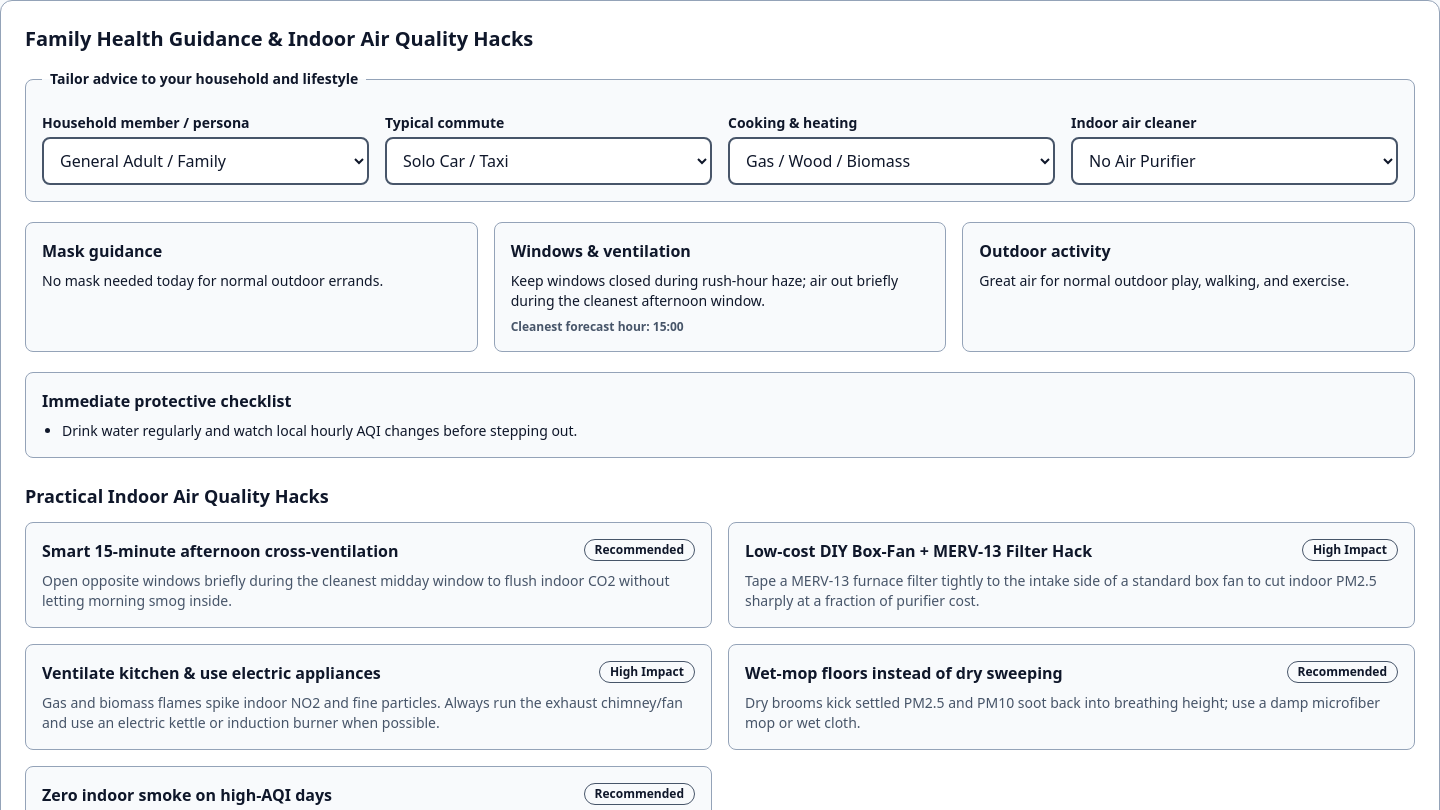
Test: GuidanceSection and ActivityPlanner update interactively and pass axe
Later steps or results of the test are not shown.
Select "Asthma / Respiratory" in the dropdown labelled "Household member / persona": (206, 161) [42, 137, 369, 185]
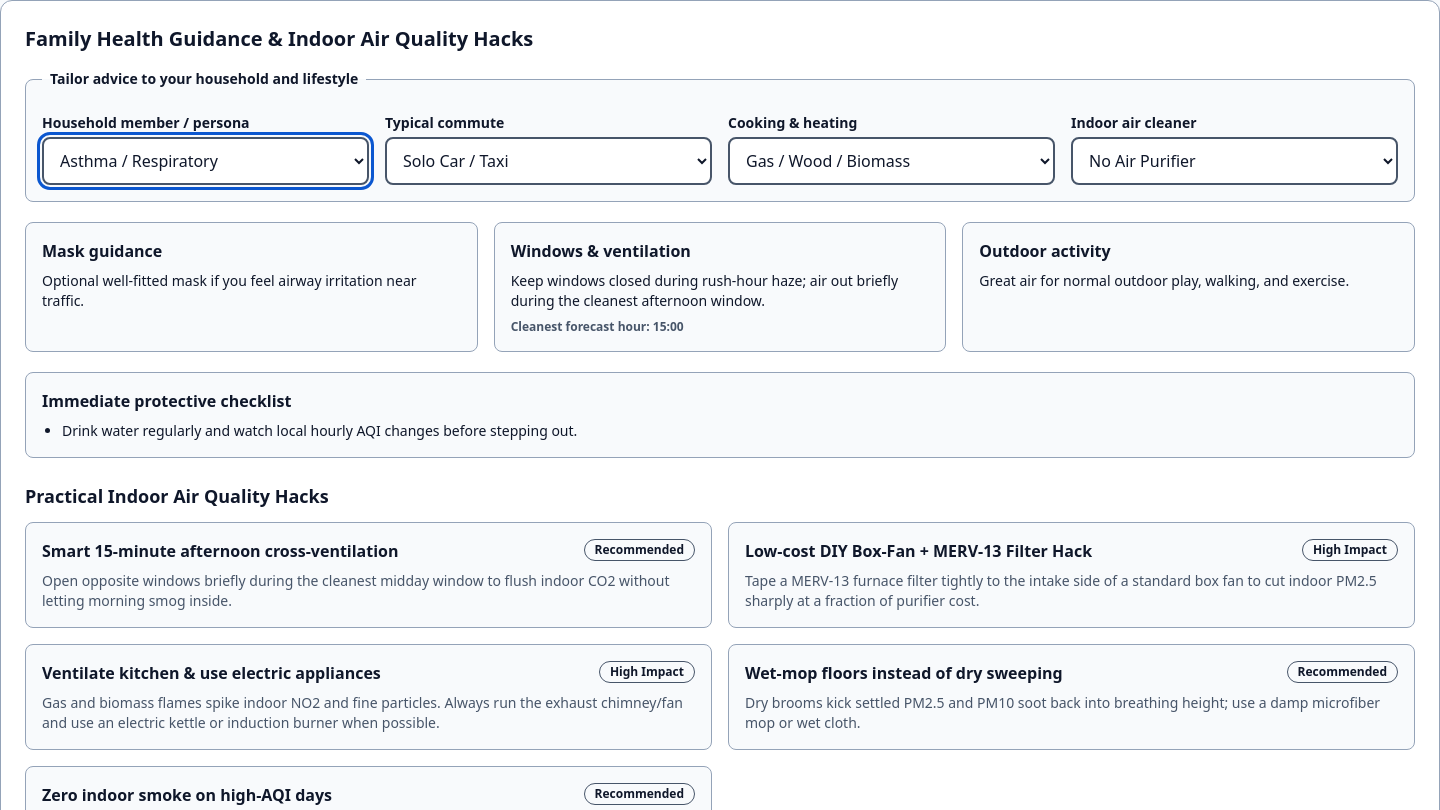
expect the text "Optional well-fitted mask" is shown: met, box [42, 271, 416, 310]
Select "HEPA Air Purifier" in the dropdown labelled "Indoor air cleaner": (1234, 161) [1071, 137, 1398, 185]
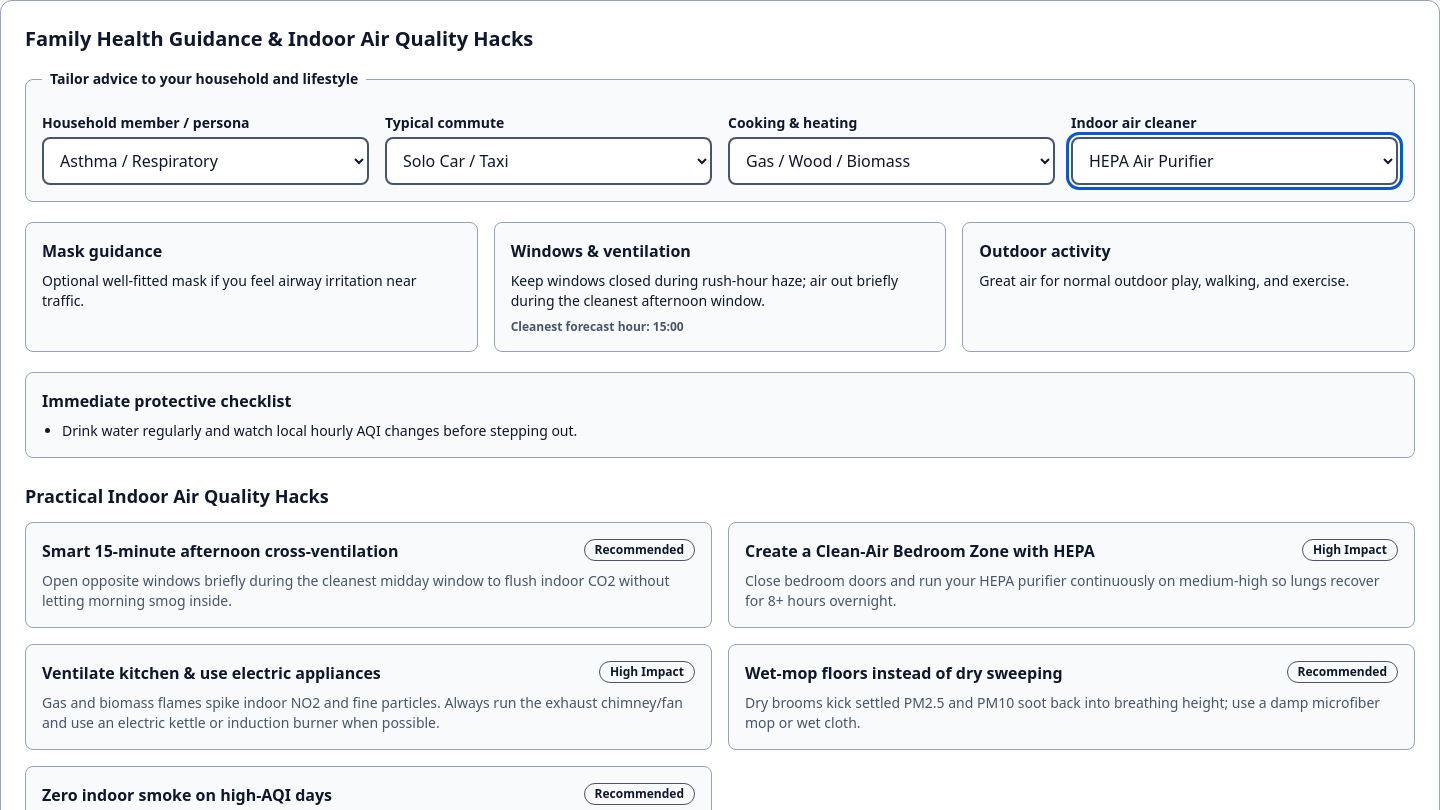
expect the heading "Create a Clean-Air Bedroom Zone with HEPA" is shown: met, box [745, 539, 1095, 563]
